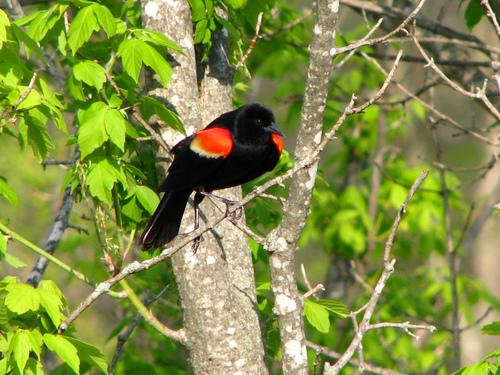010.Red_winged_Blackbird: (139, 102, 285, 255)
